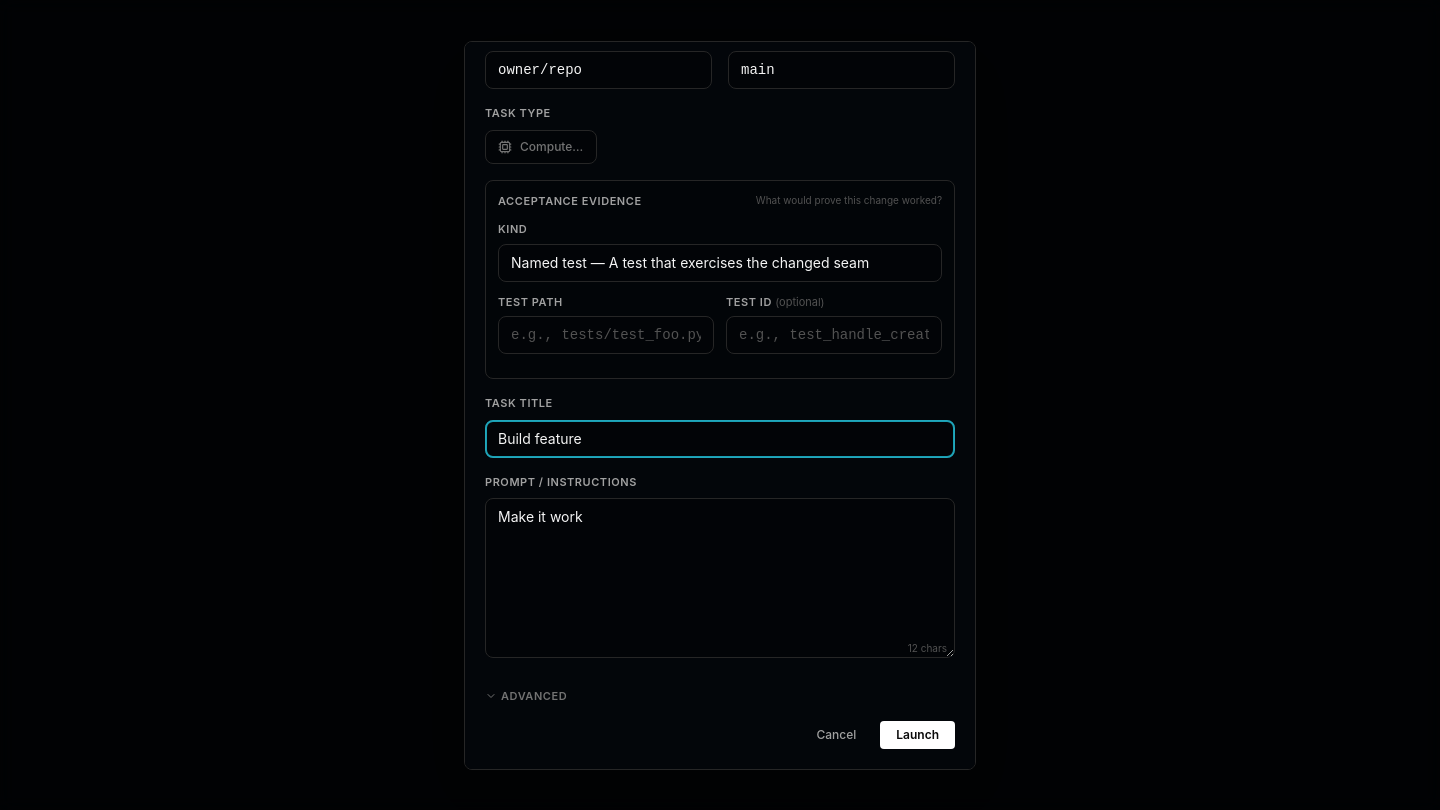
Test: NewTaskModal — Acceptance Evidence › blocks submit with an inline error when acceptance evidence is invalid
(page scrolled)
Default evidence has an empty test path — invalid for named_test.
Click the button "Launch" at (918, 734), box [880,720,955,748]
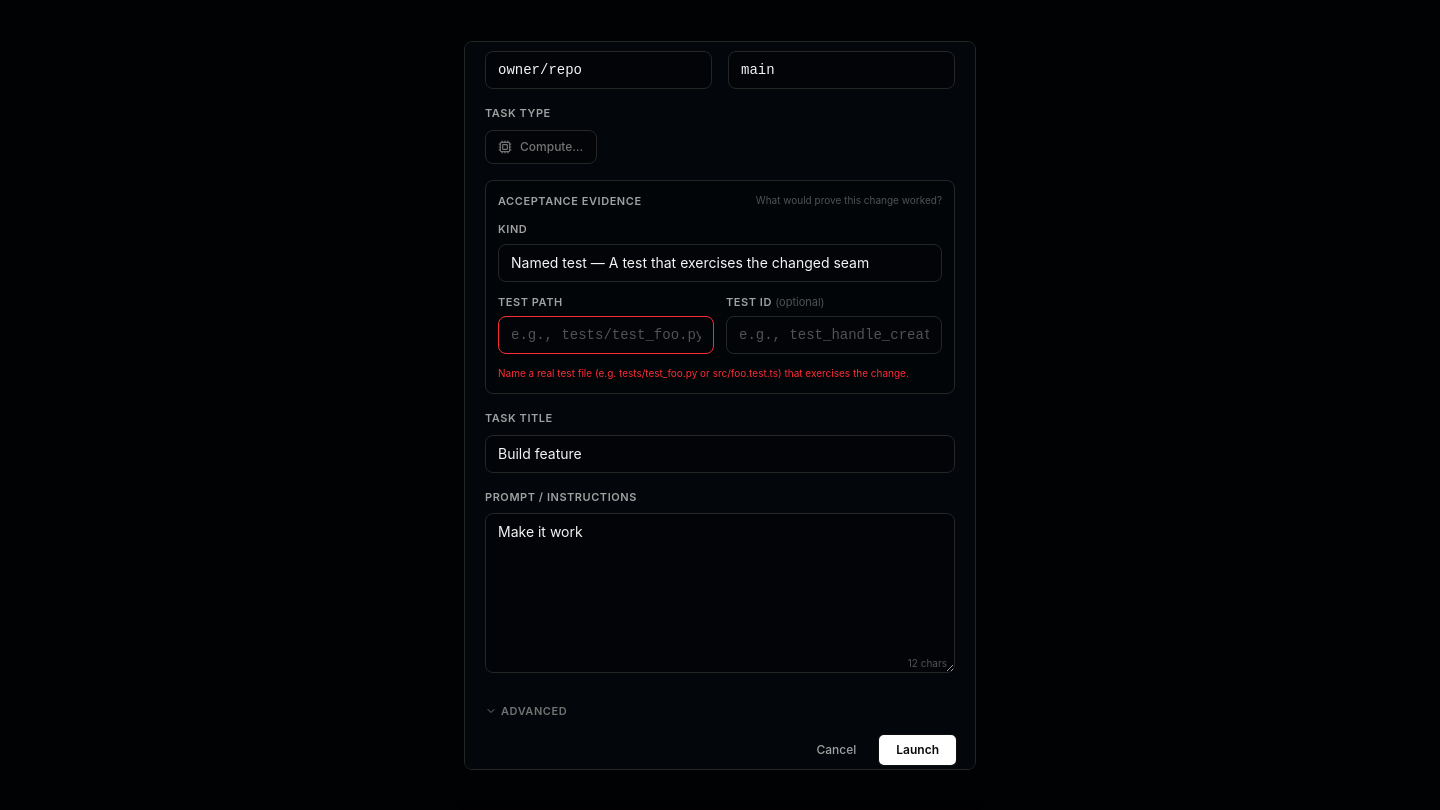
Check: the text "Name a real test file" is shown, box [498,367,909,379]
